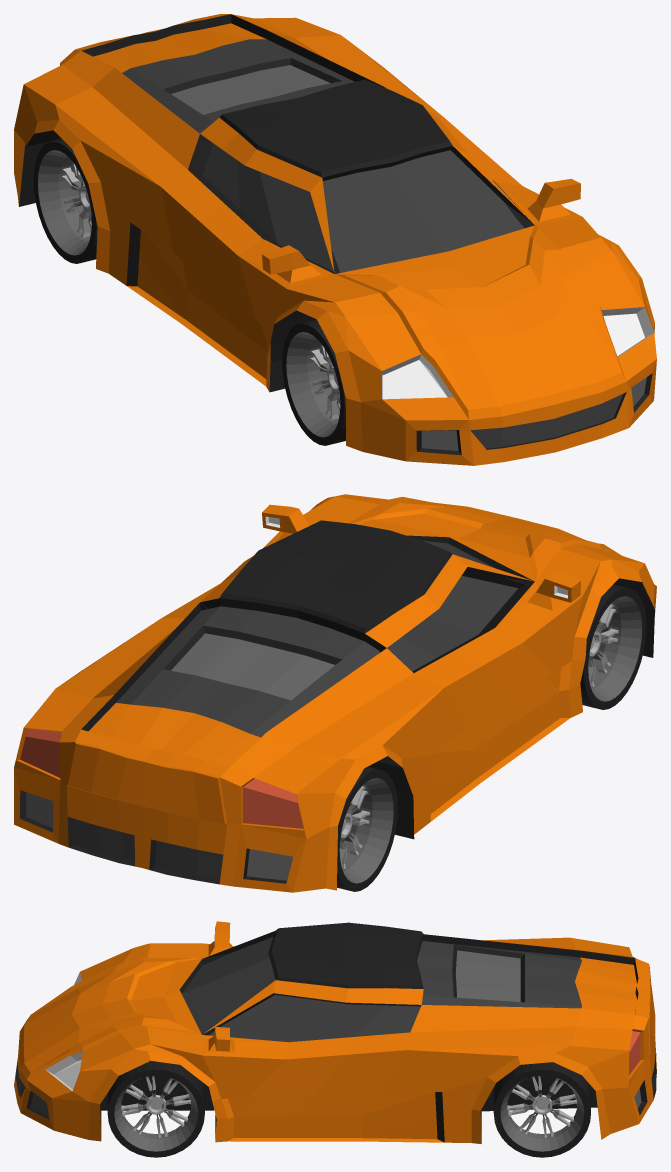
The model's file is volkswagenw12nardo.fbx.
3 renders of one model, top to bottom at view 1: azimuth 30°, elevation 25°; view 2: azimuth 150°, elevation 25°; view 3: azimuth 270°, elevation 25°, orthographic. The views are drawn at different scales.
Parts seen in each view (by area): view 1: OrangeBody, FrontRight, BackRight; view 2: OrangeBody, FrontRight, BackRight; view 3: OrangeBody, BackLeft, FrontLeft.
Boxes of the visible parts, x1=… form: OrangeBody: x1=14, y1=14, x2=656, y2=465; FrontRight: x1=282, y1=319, x2=345, y2=445; BackRight: x1=33, y1=139, x2=97, y2=263; OrangeBody: x1=14, y1=494, x2=656, y2=892; FrontRight: x1=580, y1=584, x2=646, y2=709; BackRight: x1=337, y1=767, x2=397, y2=891; OrangeBody: x1=14, y1=921, x2=656, y2=1143; BackLeft: x1=493, y1=1062, x2=590, y2=1157; FrontLeft: x1=107, y1=1061, x2=204, y2=1157.
Bounding box in the file's own units: 1.92 × 4.32 × 1.11.
